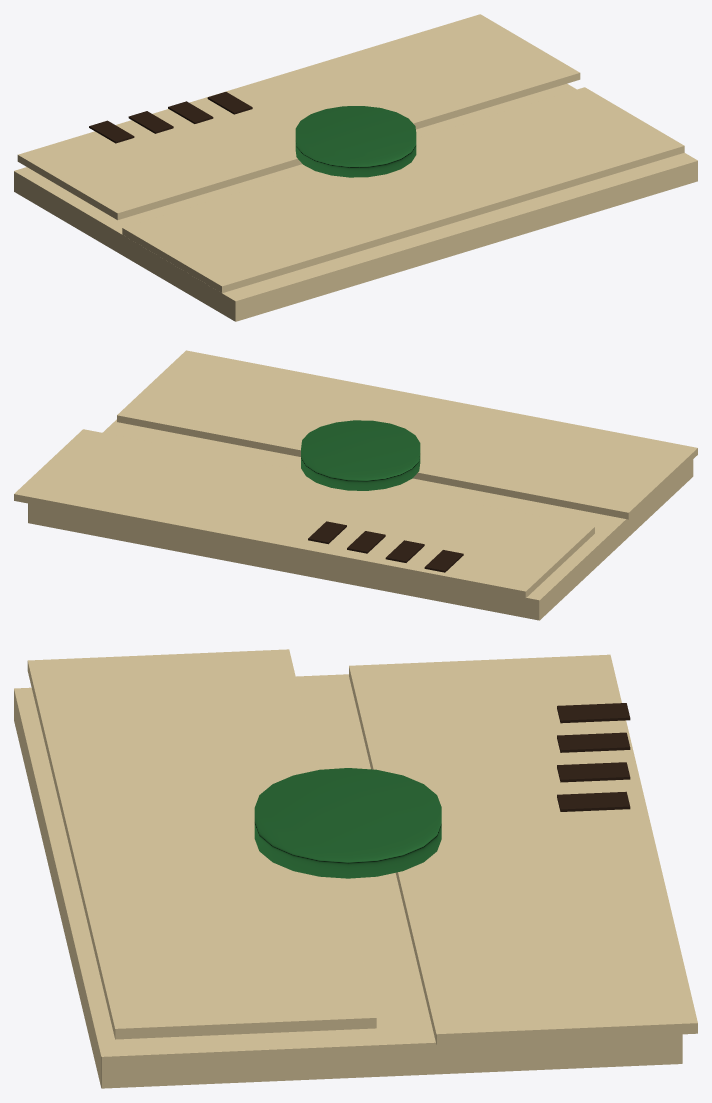
File: othmars_brief.glb
3 views of the same model, one above another, from view 1: azimuth 30°, elevation 25°; view 2: azimuth 150°, elevation 25°; view 3: azimuth 270°, elevation 25° (orthographic). The views are drawn at different scales.
Visible parts, largest first — view 1: Cube; view 2: Cube; view 3: Cube.
Part boxes in pixels (x1,y1,x2,y2): Cube: [14, 14, 697, 321]; Cube: [14, 350, 697, 620]; Cube: [14, 649, 697, 1088].
Bounding box in the file's own units: 0.1592 × 0.016 × 0.1171.
